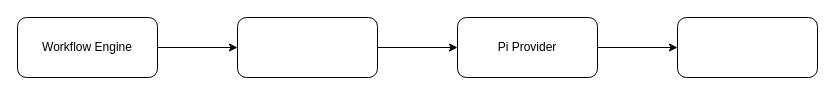
This 835x95 diagram has some shape labels left out. Each missing label, with the centre of its shape:
"Pi SDK" belongs at (747,47).
"PiAgent Executor" belongs at (307,47).
